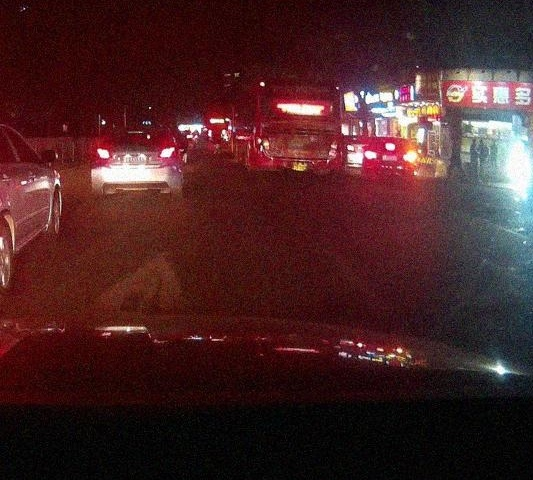L_light: (255, 123, 264, 152), (96, 148, 110, 159), (365, 152, 376, 159)
R_light: (330, 126, 341, 154), (159, 147, 174, 157), (403, 154, 416, 160)
T_light: (296, 111, 315, 117), (128, 130, 142, 134), (386, 145, 395, 149)
night-no: (254, 77, 343, 177), (91, 127, 175, 200)
night-right: (363, 136, 416, 181)
